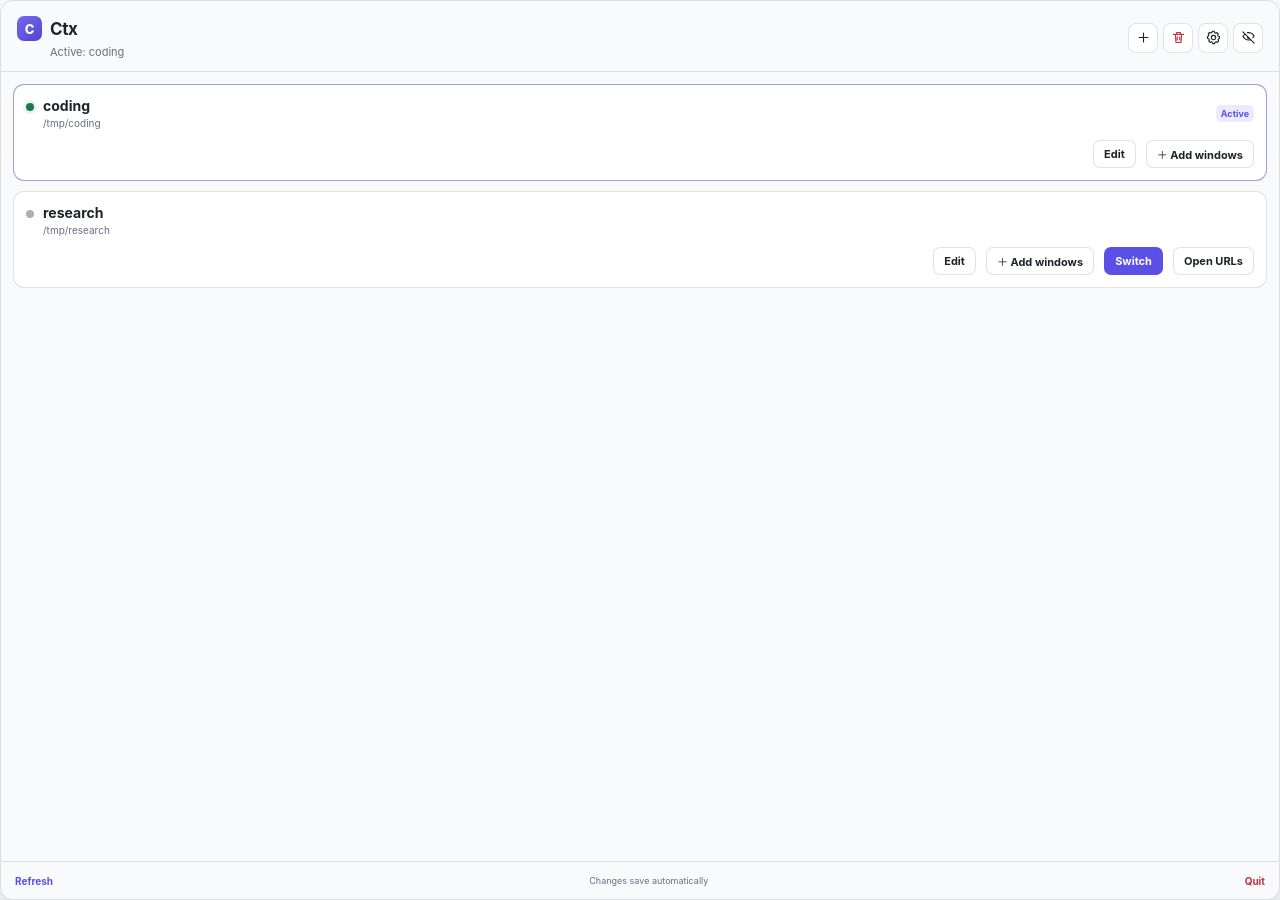
Test case: Ctx popover › reopens the popover when a window cannot be hidden
Expected: the heading "coding" is shown, [43,97,90,114]
Click the button named "Hide all except active context". click: (1248, 38)
box: [1233,22,1263,52]
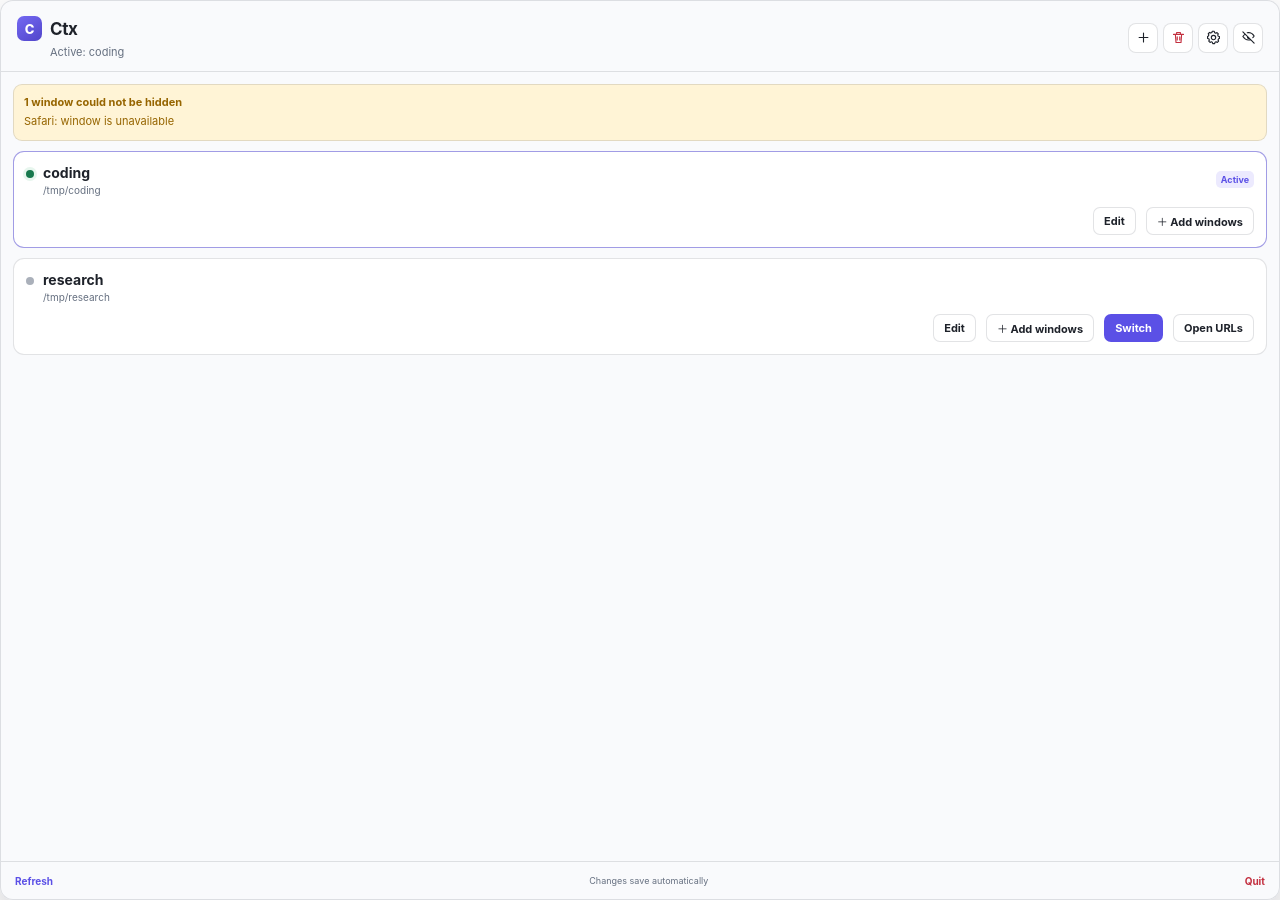
Expected: the text "1 window could not be hidden" is shown, [24,95,182,109]
Expected: the text "Safari: window is unavailable" is shown, [24,114,174,128]
